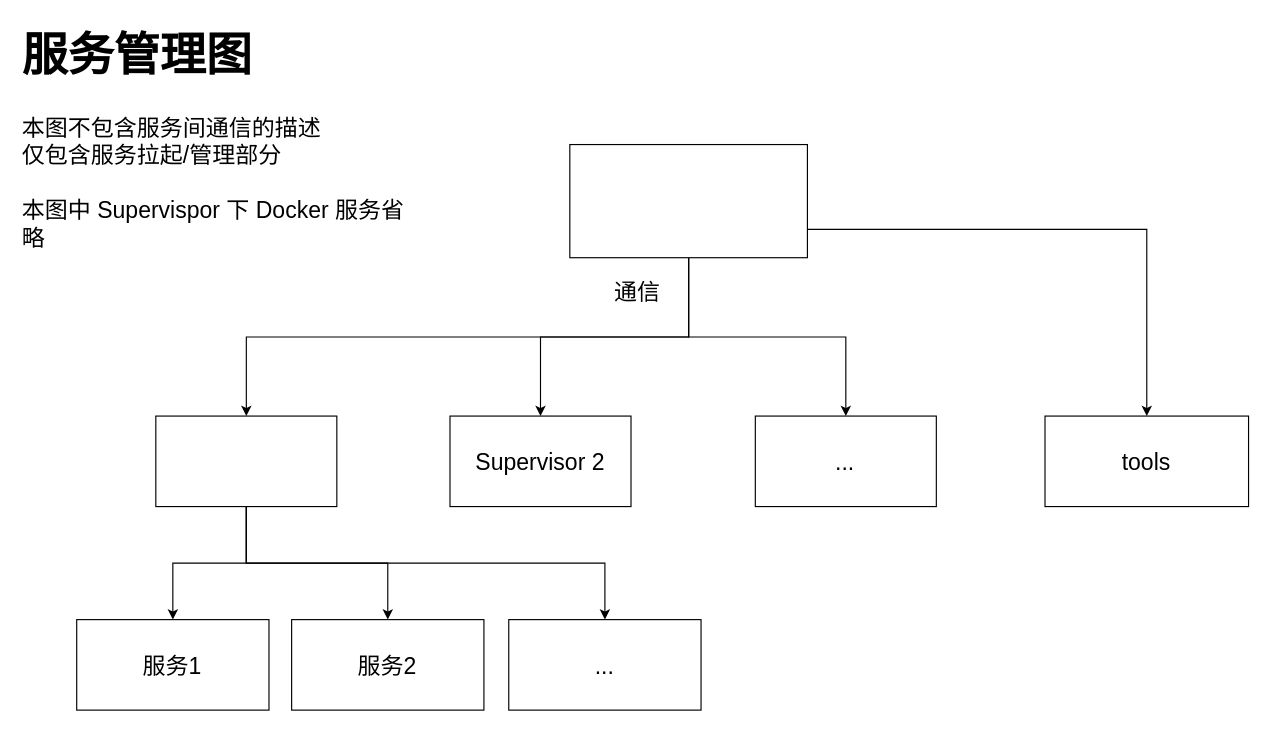
Image size: 1268x730. Some labels were removed from this diagram. Here are the shapes that lost their labels. From the top down, the box of each, then its label:
(569, 143, 807, 258): Master
(155, 415, 337, 507): Supervisor 1
